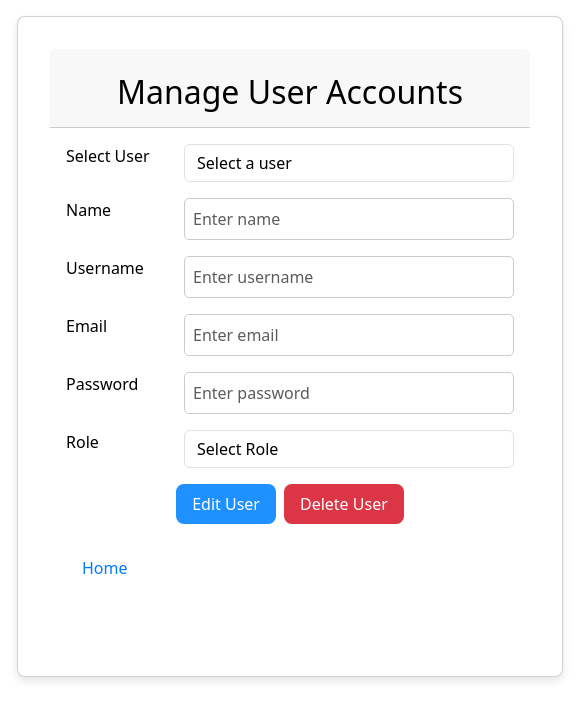
Test: ManageUserComponent › deletes user successfully
This screenshot has width=581, height=720.
// Select a user with id '2' (Jane Smith)
Select "Jane Smith" in the dropdown next to "Select User" at (349, 163), box [184,144,514,182]
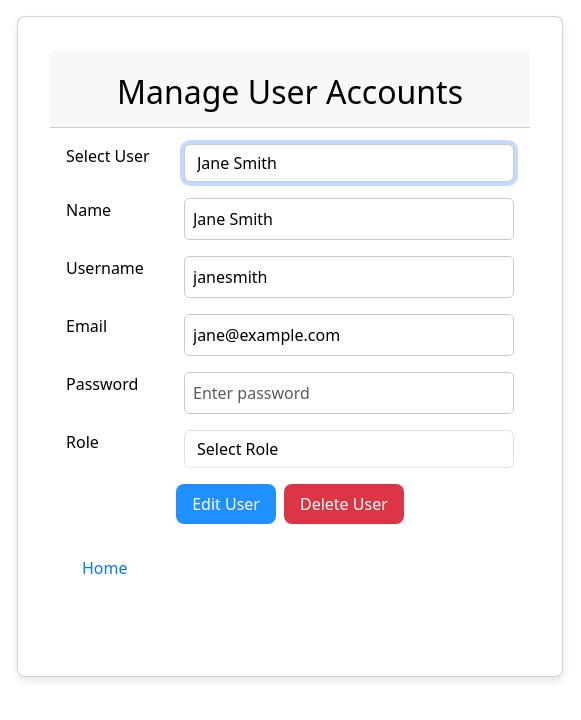
Check: the 1st field named "userName" holds "Jane Smith", box [184,198,514,240]
// Submit the delete form
Click the button "Delete User".
click(344, 504)  # box [284,484,404,524]
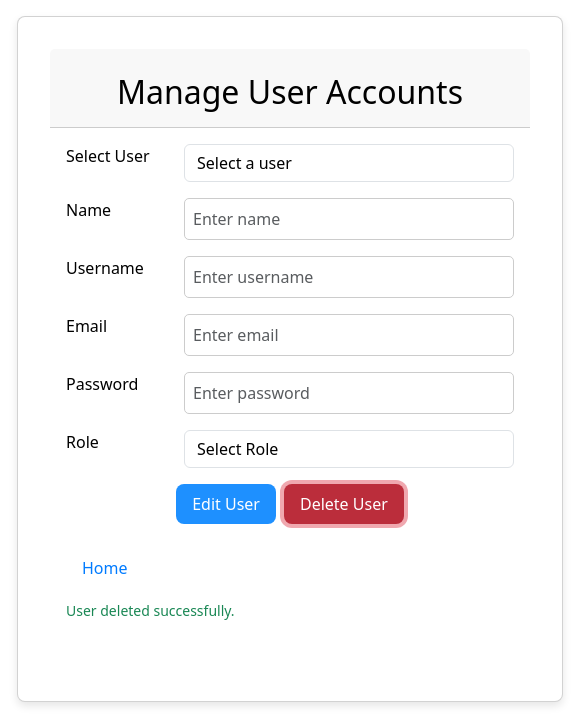
Check: the text "User deleted successfully." is shown, box [66,601,235,620]
